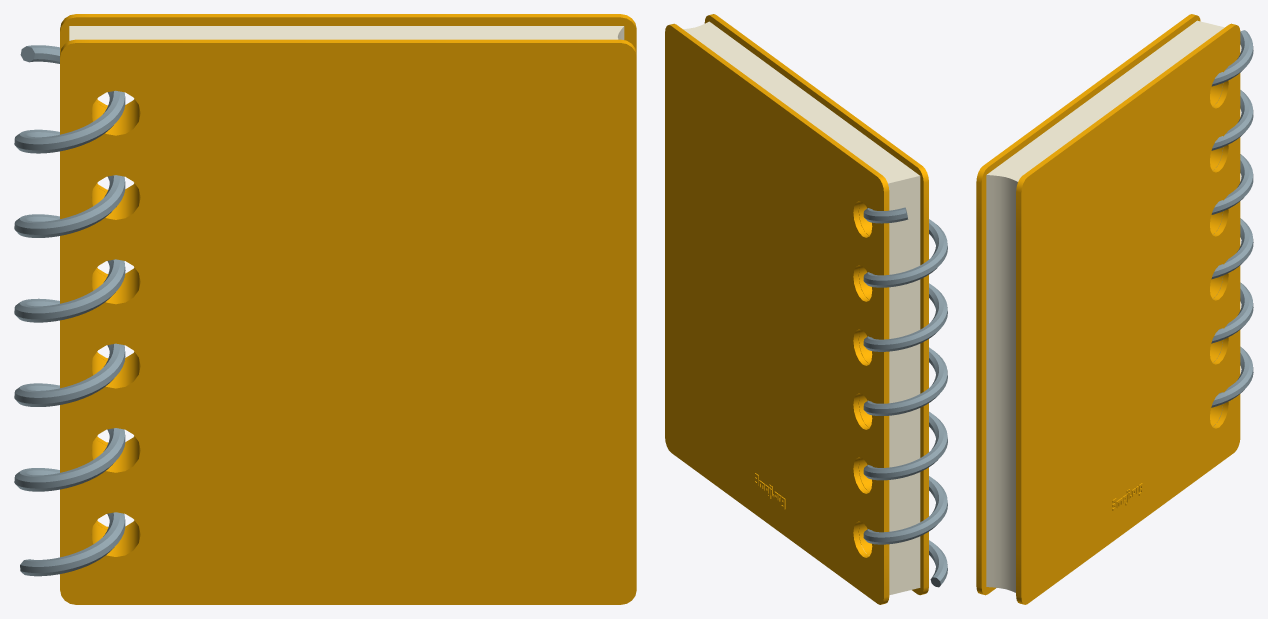
Rendered from ledger.fbx.
3 views of the same model, side by side, from view 1: azimuth 30°, elevation 25°; view 2: azimuth 150°, elevation 25°; view 3: azimuth 270°, elevation 25° (orthographic). The views are drawn at different scales.
Visible parts, largest first — view 1: Circle.2559; view 2: Circle.2559; view 3: Circle.2559.
Part boxes in pixels (x1,y1,x2,y2): Circle.2559: [14, 14, 636, 604]; Circle.2559: [665, 14, 947, 604]; Circle.2559: [976, 14, 1253, 604].
Size of the model in its own units: 190 by 208 by 122.
1 material, 1 textured.
